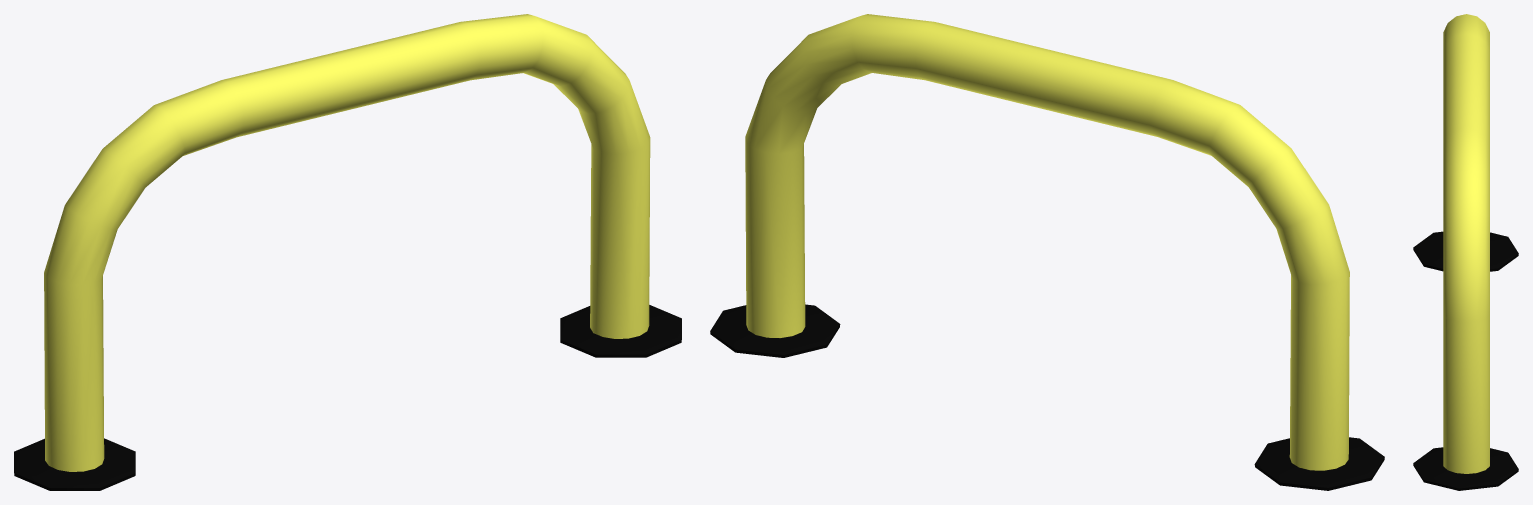
3 renders of one model, left to right at view 1: azimuth 30°, elevation 25°; view 2: azimuth 150°, elevation 25°; view 3: azimuth 270°, elevation 25°, orthographic. The views are drawn at different scales.
Visible parts, largest first — view 1: Joint_0_Object_0, Joint_0_Object_1; view 2: Joint_0_Object_0, Joint_0_Object_1; view 3: Joint_0_Object_0, Joint_0_Object_1.
Boxes of the visible parts, x1,y1,x2,y2 form: Joint_0_Object_0: [44, 14, 650, 471]; Joint_0_Object_1: [14, 305, 681, 490]; Joint_0_Object_0: [745, 14, 1349, 470]; Joint_0_Object_1: [710, 304, 1384, 490]; Joint_0_Object_0: [1443, 14, 1489, 473]; Joint_0_Object_1: [1413, 231, 1518, 490].
Size of the model in its own units: 1584 by 793 by 272.
2 materials, 1 textured.
